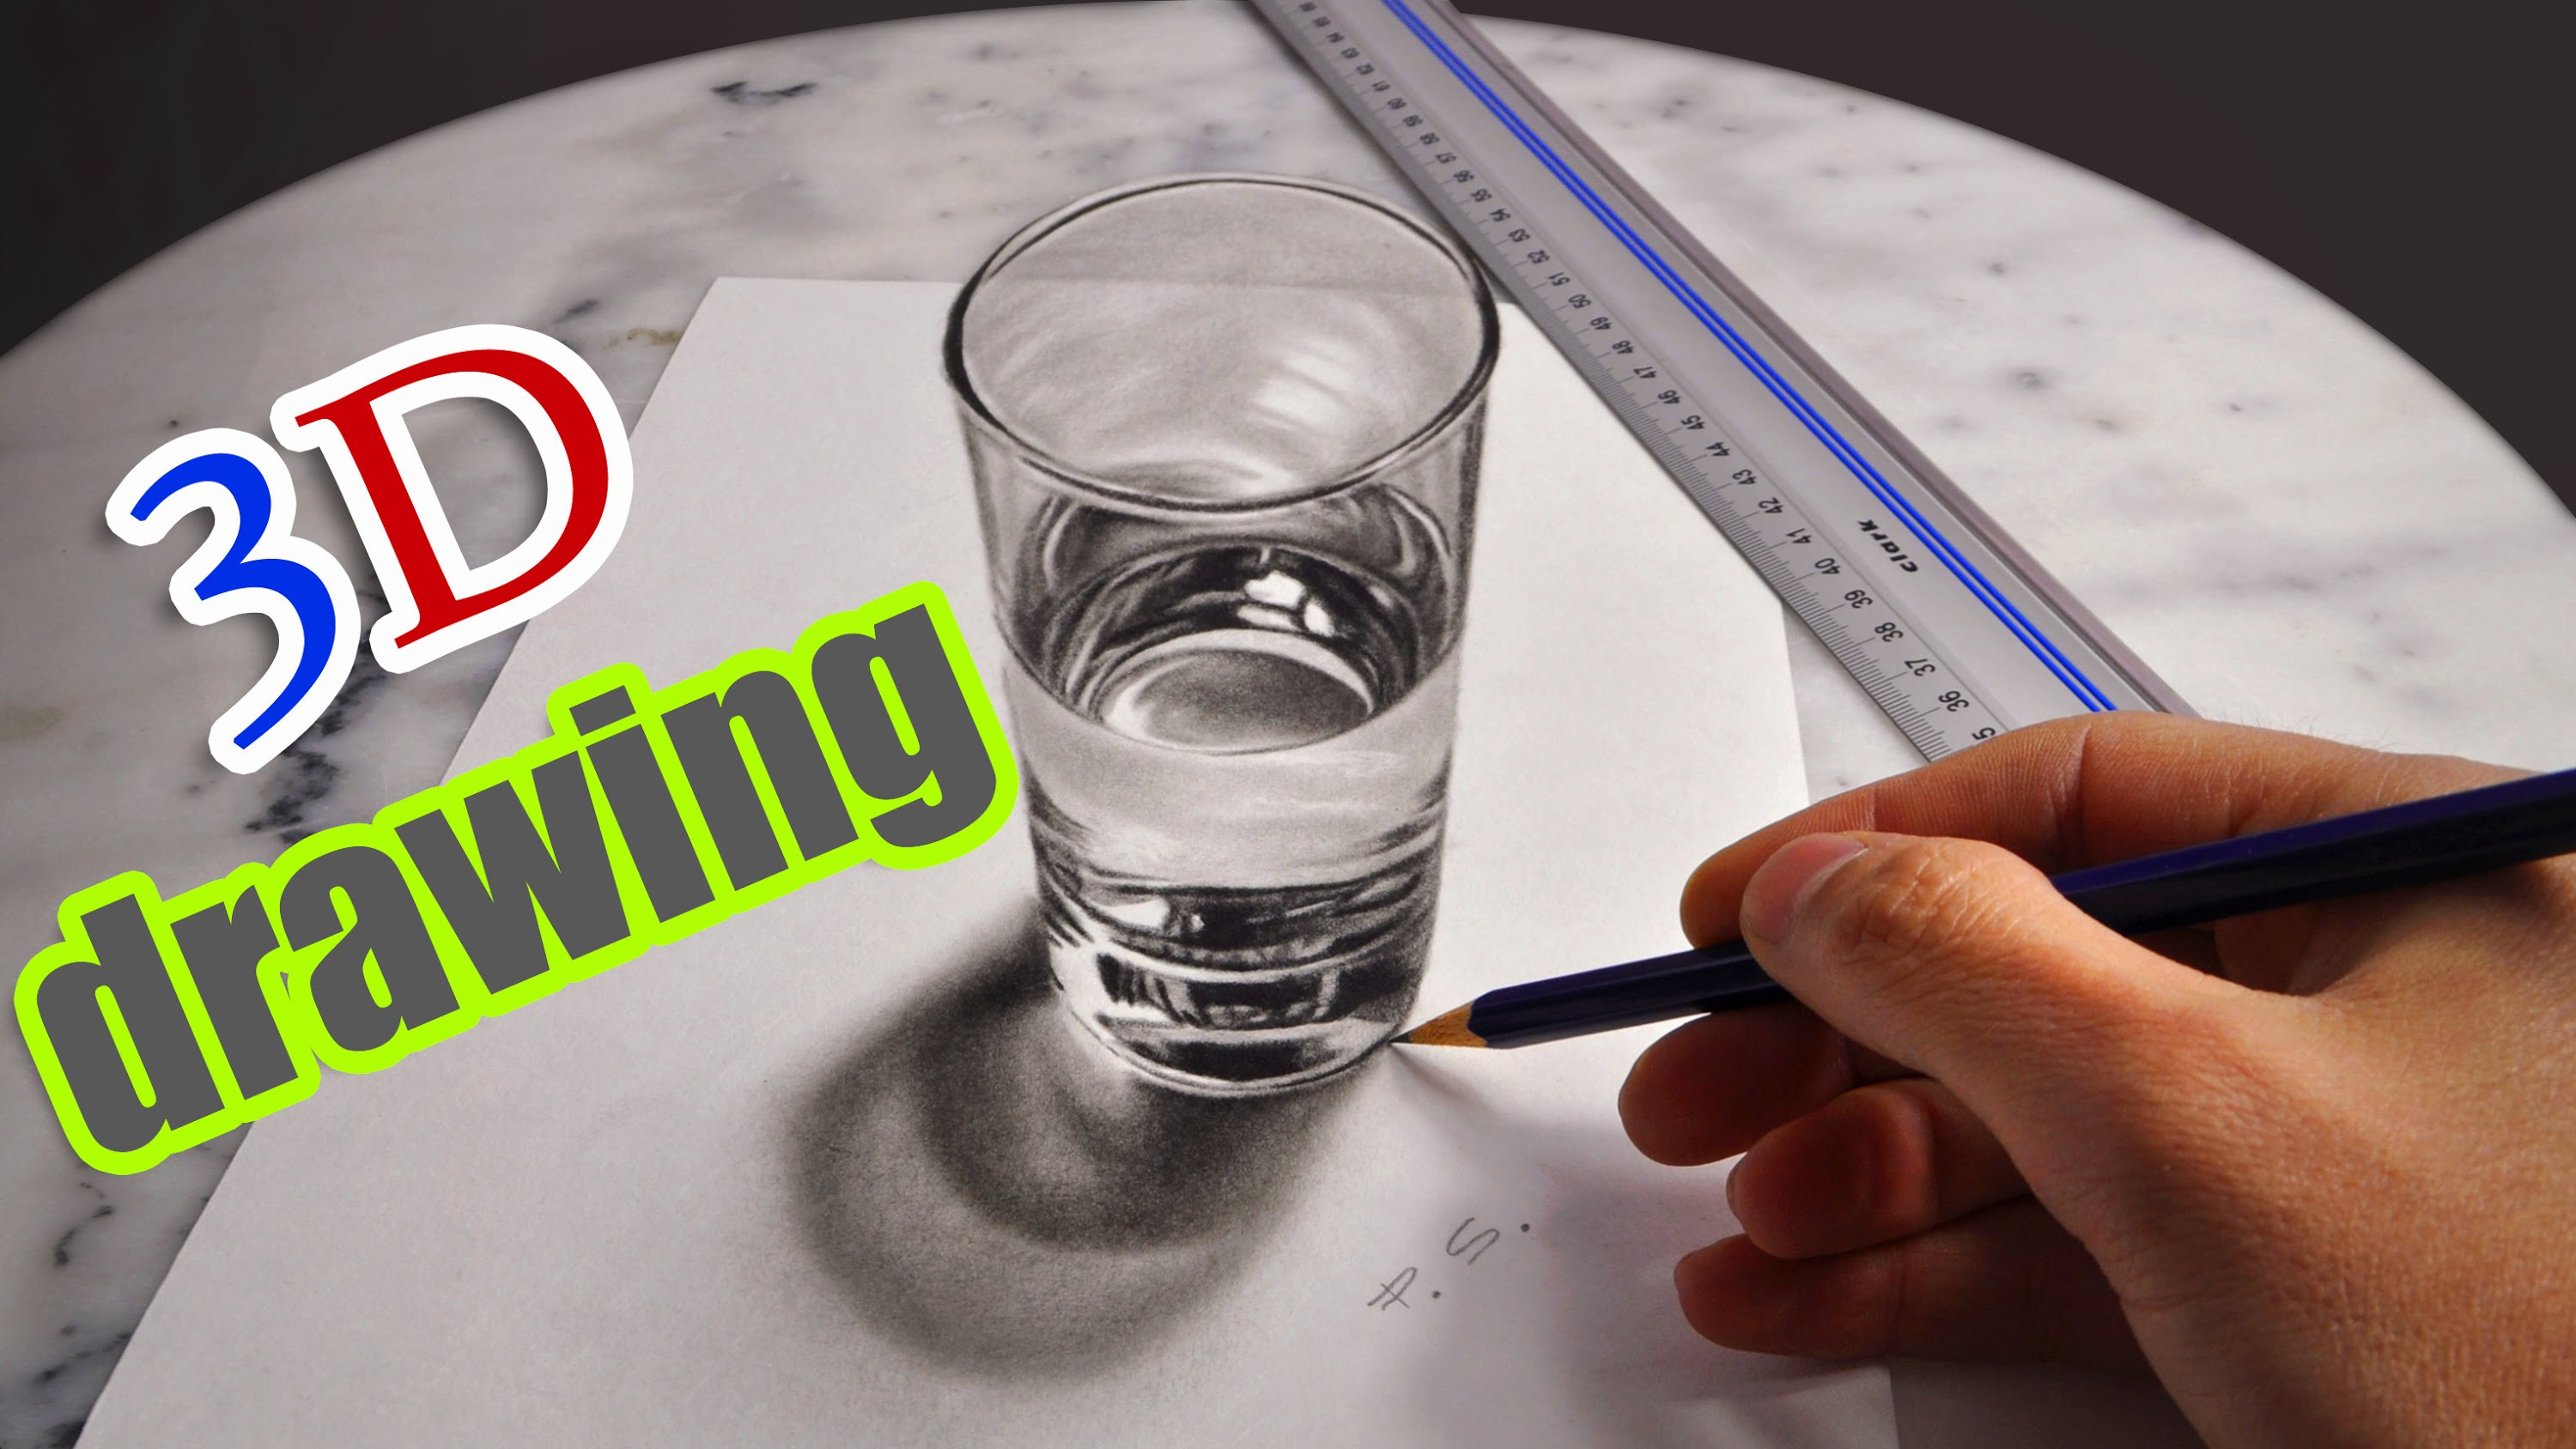glass of water: (964, 189, 1472, 1113)
